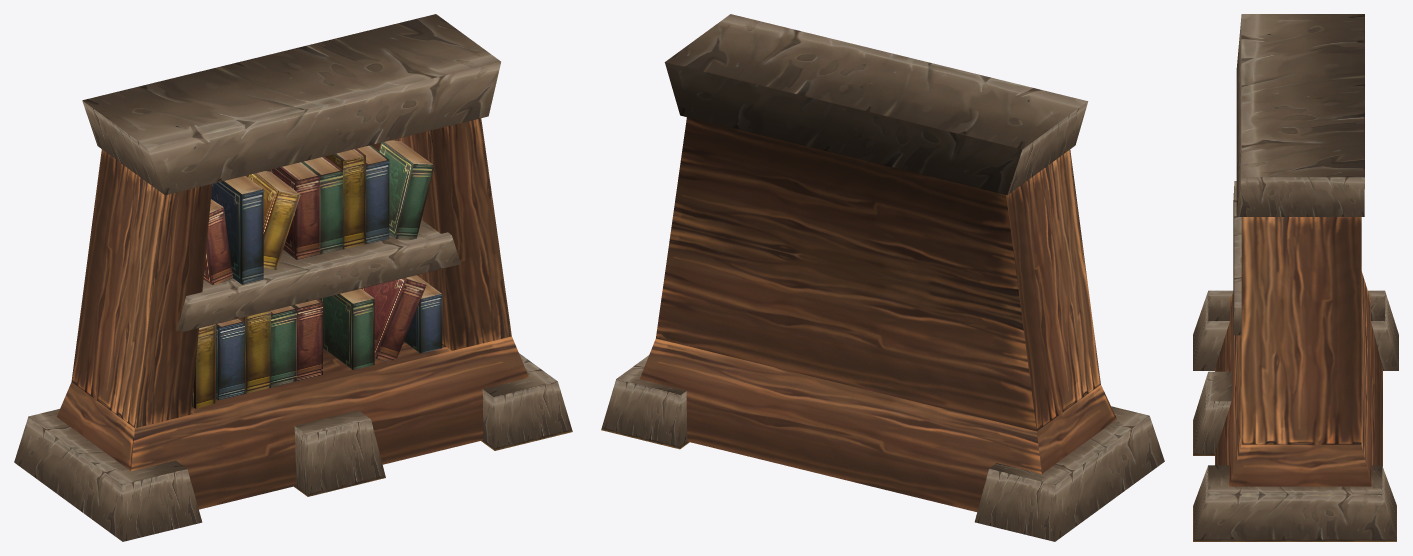
The model's file is dwarvenbookshelfsmall.obj.
3 views of the same model, side by side, from view 1: azimuth 30°, elevation 25°; view 2: azimuth 150°, elevation 25°; view 3: azimuth 270°, elevation 25° (orthographic). The views are drawn at different scales.
Parts seen in each view (by area): view 1: dwarvenbookshelfsmall; view 2: dwarvenbookshelfsmall; view 3: dwarvenbookshelfsmall.
Boxes of the visible parts, bbox=[...] form: dwarvenbookshelfsmall: bbox=[14, 14, 572, 541]; dwarvenbookshelfsmall: bbox=[601, 14, 1164, 541]; dwarvenbookshelfsmall: bbox=[1193, 14, 1398, 541].
Bounding box in the file's own units: 4.58 × 3.53 × 1.92.
Materials: 1 (1 with a texture image).
